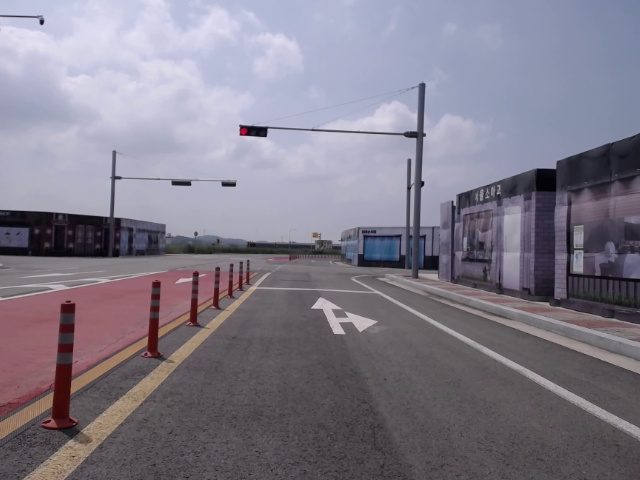red_3: (240, 125, 267, 137)
